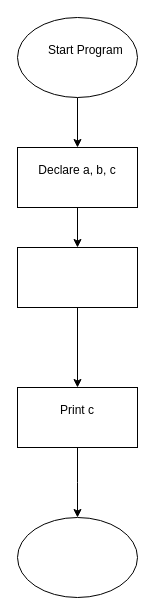
Some shapes in this 155 by 615 pixel diagram are drawn without their labels. Here are the shapes that lost their labels. From the top down, the centre of each, then its label:
point (77, 277): c = a + b
point (77, 557): Stop Program
